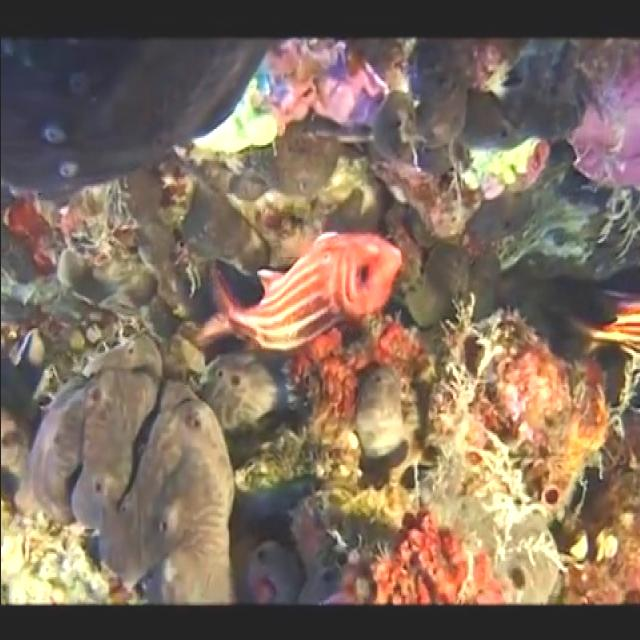Asker Baligi: (192, 228, 404, 356)
